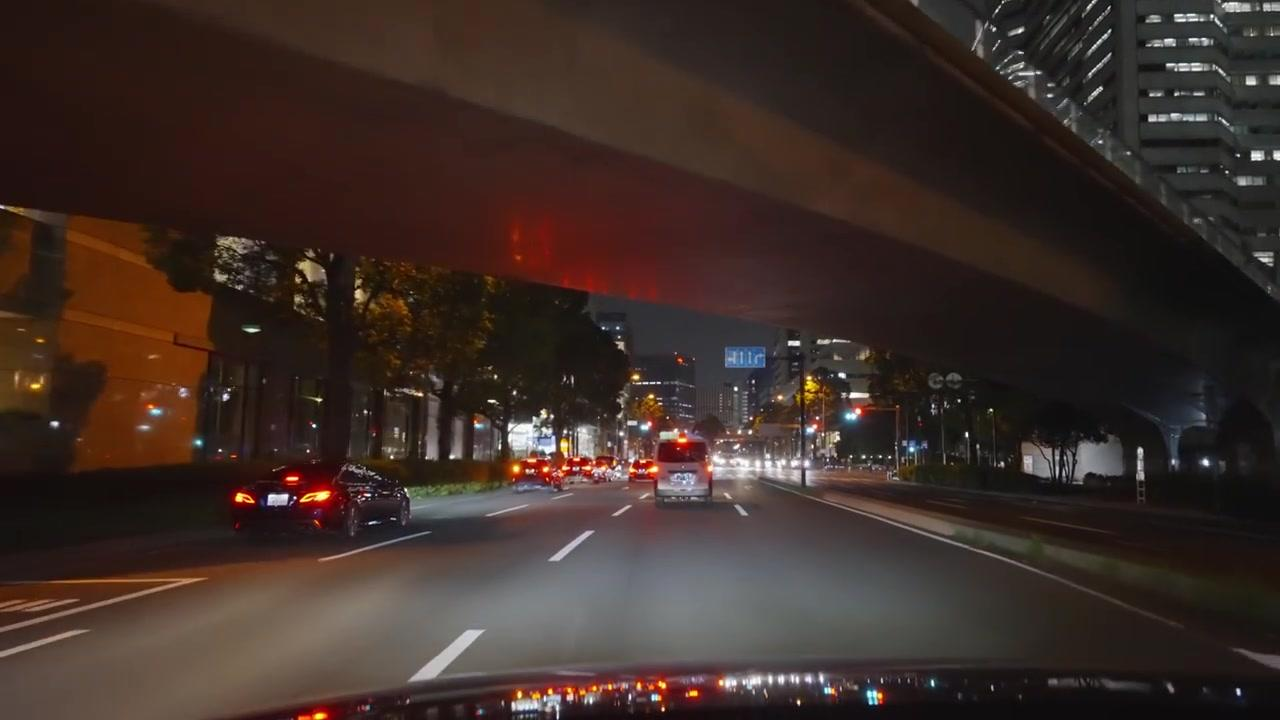bus: (653, 431, 713, 507)
car: (252, 461, 412, 538), (230, 462, 336, 534), (511, 456, 562, 492), (628, 460, 658, 481), (605, 466, 629, 481), (589, 464, 610, 481)
traffic light: (846, 410, 858, 421)
